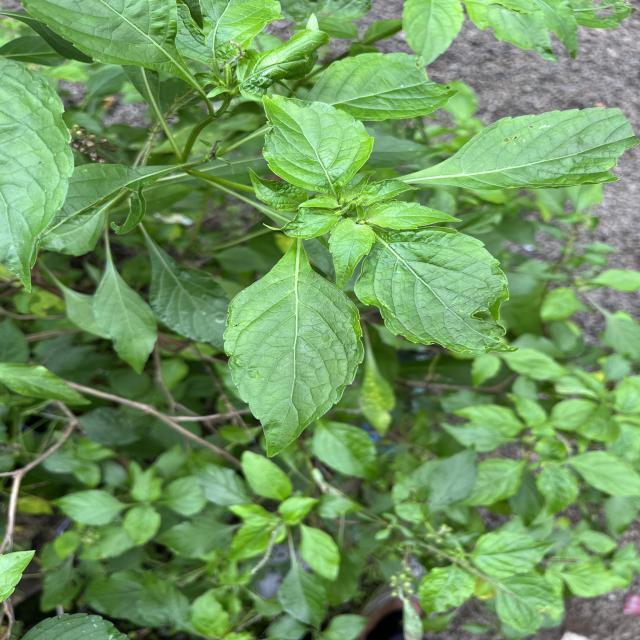Ocimum gratissimum: (220, 243, 366, 461), (15, 0, 218, 120), (351, 221, 521, 358), (408, 104, 640, 194), (0, 54, 78, 296), (256, 91, 378, 199)
